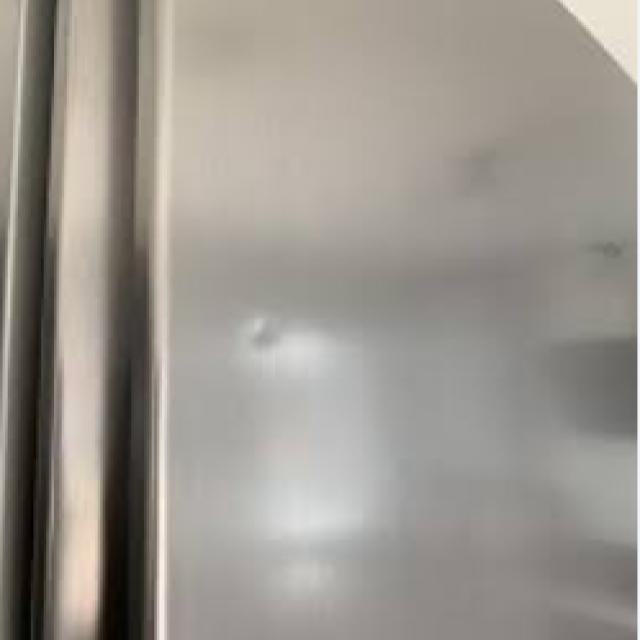dents: (224, 298, 311, 378), (452, 140, 516, 198)
